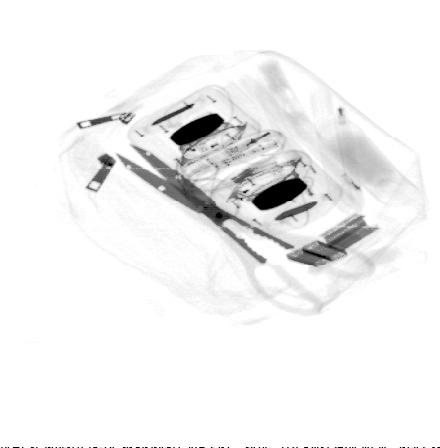Scissors: (115, 143, 377, 316)
